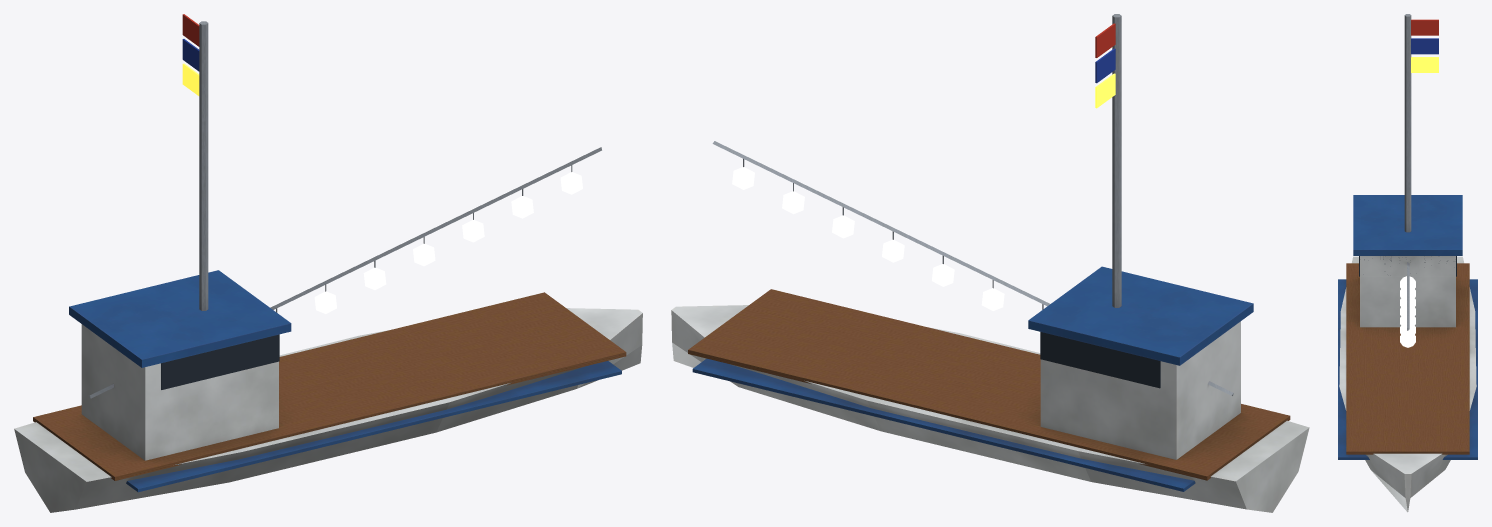
File: fiskebat_jp_tex.glb
3 views of the same model, side by side, from view 1: azimuth 30°, elevation 25°; view 2: azimuth 150°, elevation 25°; view 3: azimuth 270°, elevation 25° (orthographic). The views are drawn at different scales.
Parts seen in each view (by area): view 1: fiskebat_jp; view 2: fiskebat_jp; view 3: fiskebat_jp.
Boxes of the visible parts, x1=… form: fiskebat_jp: x1=14, y1=14, x2=642, y2=512; fiskebat_jp: x1=671, y1=14, x2=1309, y2=512; fiskebat_jp: x1=1338, y1=14, x2=1477, y2=512.
Bounding box in the file's own units: 15 × 11.2 × 4.08.
9 materials, 4 textured.
